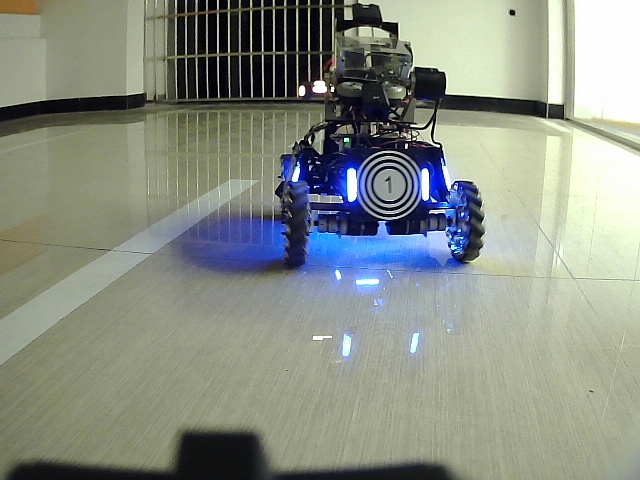lamp: (344, 164, 360, 203), (418, 166, 431, 204)
pair: (346, 166, 430, 200)
